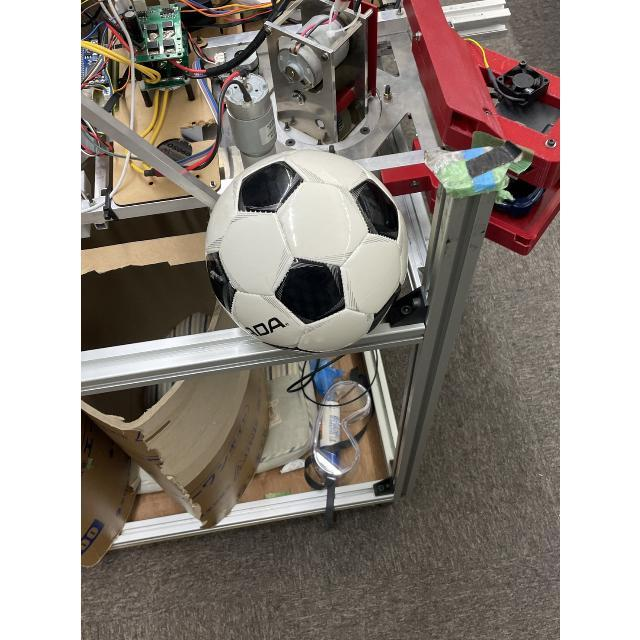ball: (204, 150, 406, 350)
